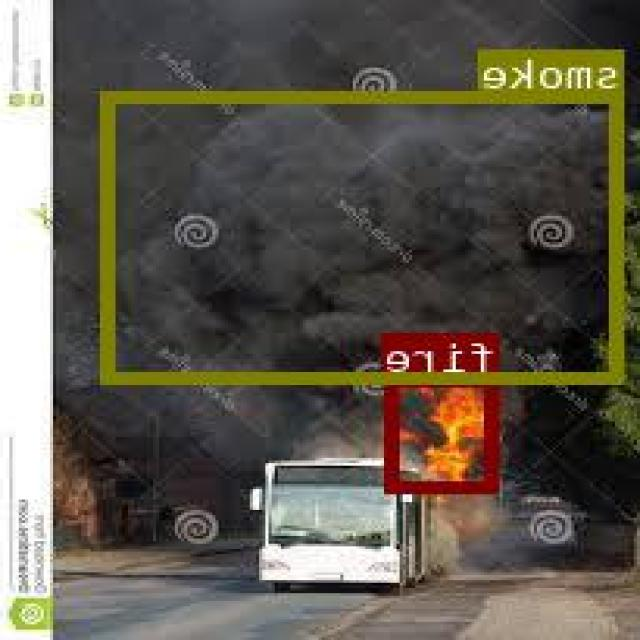fire: (388, 374, 502, 489)
smoke: (106, 89, 625, 381)
